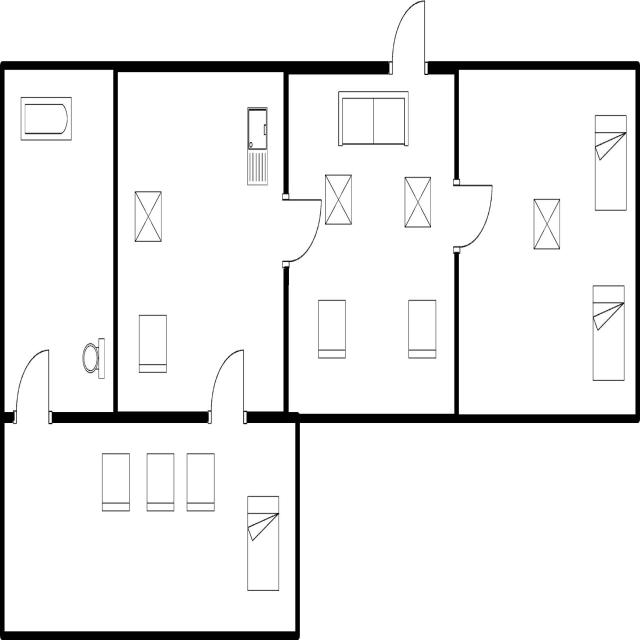bed: (592, 107, 630, 221), (243, 489, 282, 599), (590, 280, 627, 387)
coffee_table: (528, 193, 562, 257), (131, 187, 165, 250), (322, 168, 356, 231), (402, 171, 434, 235)
large_sink: (78, 331, 107, 381)
large_sofa: (336, 86, 411, 153)
sink: (244, 102, 272, 192)
small_sofa: (314, 292, 350, 366), (135, 307, 171, 378), (98, 447, 133, 519), (184, 446, 217, 519), (143, 446, 177, 516), (406, 294, 439, 364)
tub: (16, 89, 75, 146)
